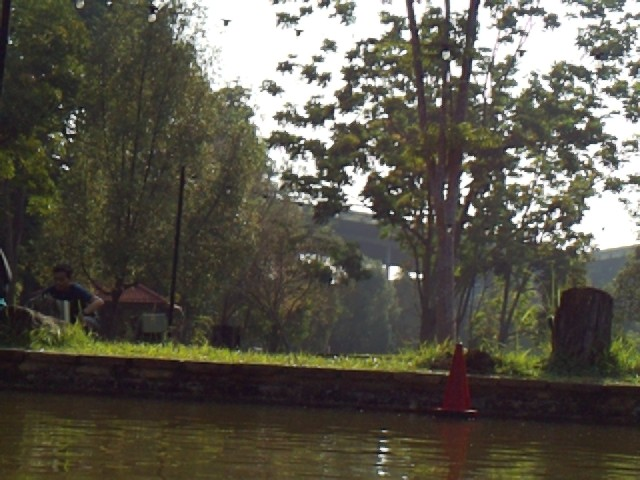obstacle: (433, 341, 481, 420)
